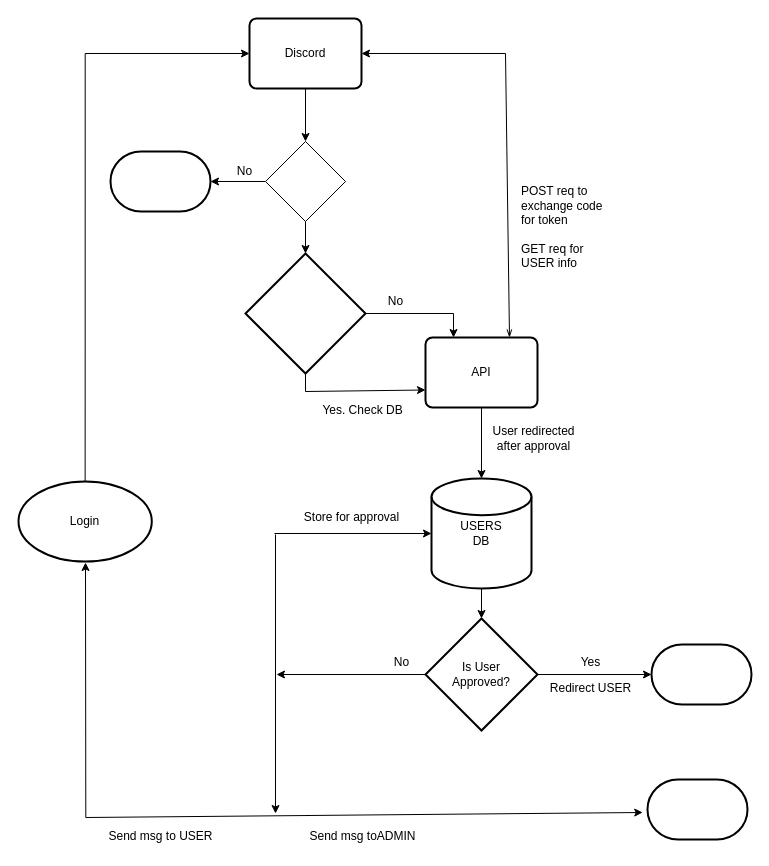
Some shapes in this 769 by 866 pixel diagram are drawn without their labels. Here are the shapes that lost their labels. From the top down, the box of each, then its label:
(264, 140, 346, 222): Meet Reqs?
(244, 252, 366, 374): Is User Authenticated?
